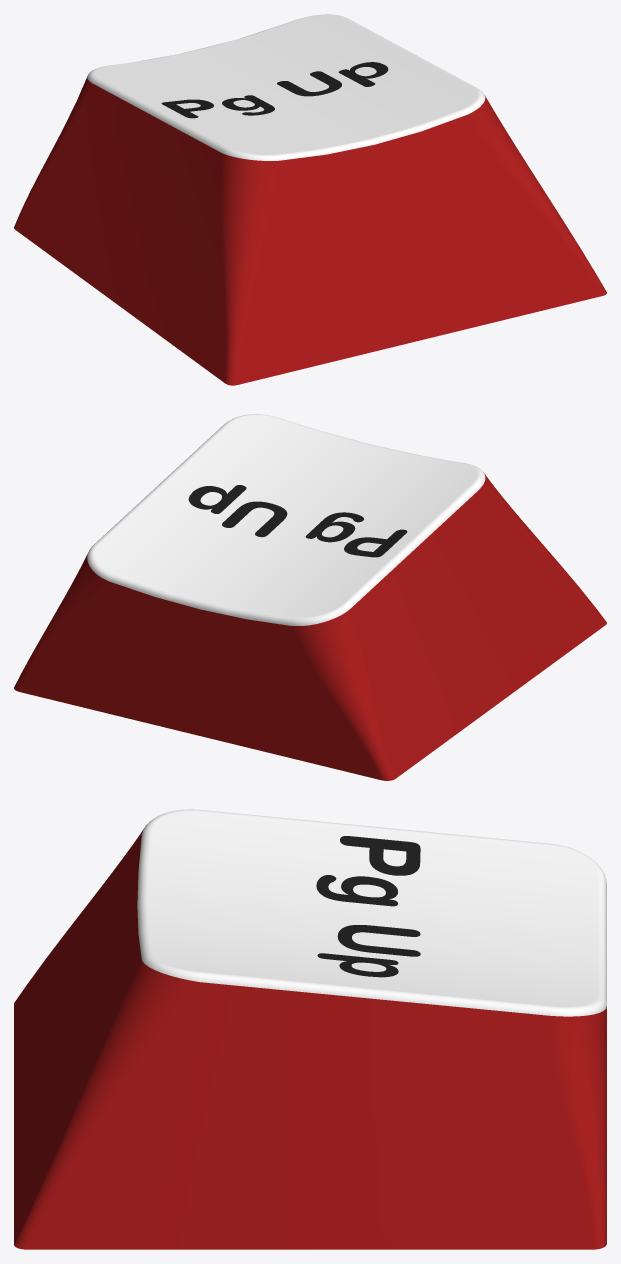
The model's file is PgUp.fbx.
The picture shows the model from 3 angles, top to bottom: view 1: azimuth 30°, elevation 25°; view 2: azimuth 150°, elevation 25°; view 3: azimuth 270°, elevation 25°; orthographic projection. The views are drawn at different scales.
Parts seen in each view (by area): view 1: Body1; view 2: Body1; view 3: Body1.
Boxes of the visible parts, box(x1,y1,x2,y2) form: Body1: box(14, 14, 606, 385); Body1: box(14, 414, 606, 780); Body1: box(14, 809, 606, 1249).
Bounding box in the file's own units: 18 × 7.85 × 18.
